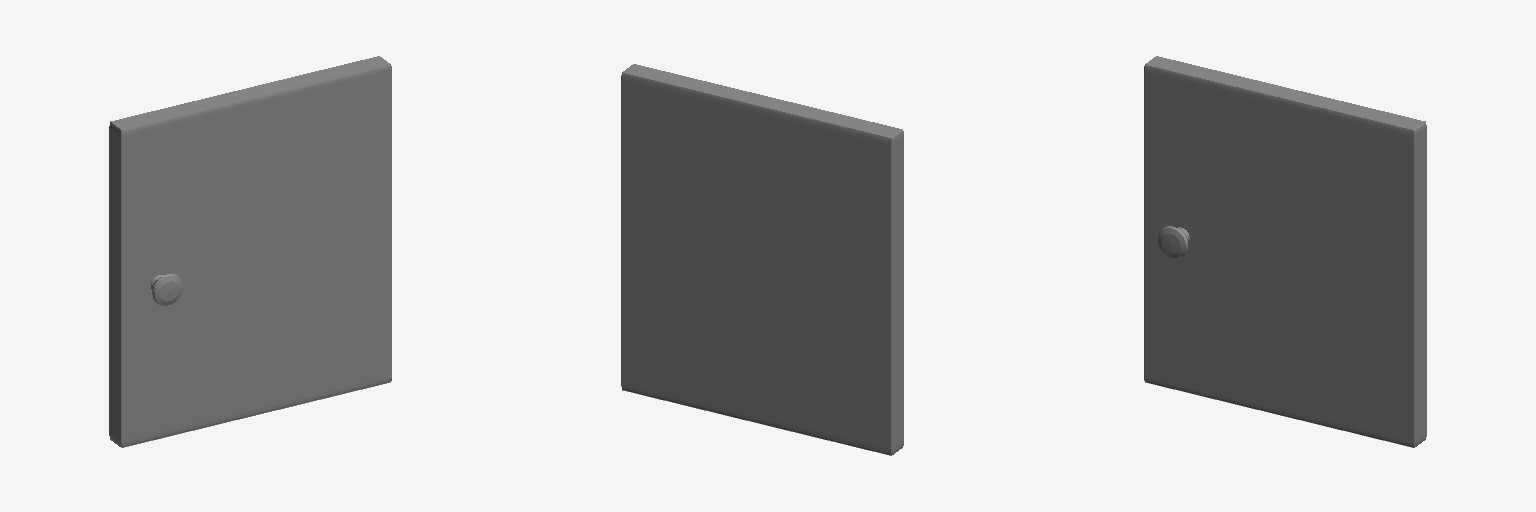
File: BuroPuerta.obj
3 renders of one model, left to right at view 1: azimuth 30°, elevation 25°; view 2: azimuth 150°, elevation 25°; view 3: azimuth 330°, elevation 25°, orthographic.
Parts seen in each view (by area): view 1: Puerta; view 2: Puerta; view 3: Puerta.
Boxes of the visible parts, box(x1,y1,x2,y2) form: Puerta: box(109, 56, 391, 447); Puerta: box(621, 64, 903, 455); Puerta: box(1144, 56, 1426, 447).
Size of the model in its own units: 0.7265 by 0.8152 by 0.1065.